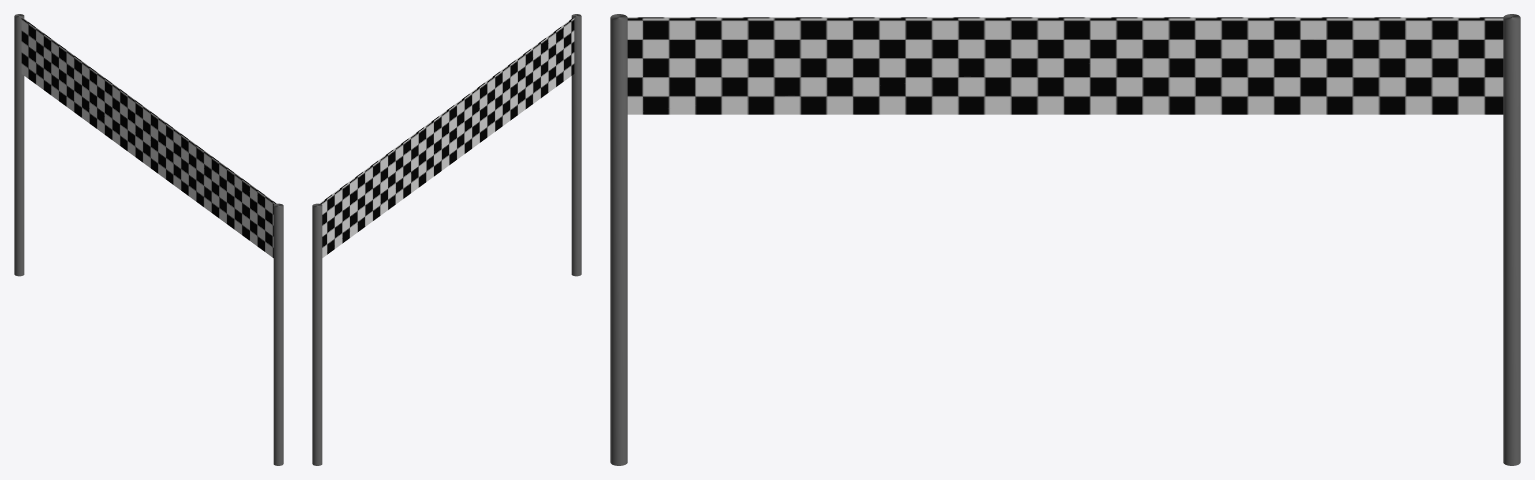
The model's file is finishflag.fbx.
3 renders of one model, left to right at view 1: azimuth 30°, elevation 25°; view 2: azimuth 150°, elevation 25°; view 3: azimuth 270°, elevation 25°, orthographic. The views are drawn at different scales.
Visible parts, largest first — view 1: Cube, Cylinder, Cylinder_001, Cube_001; view 2: Cube, Cylinder_001, Cylinder, Cube_001; view 3: Cube_001, Cylinder_001, Cylinder, Cube.
Boxes of the visible parts, x1,y1,x2,y2 form: Cube: (21,18,275,257); Cylinder: (273,203,283,465); Cylinder_001: (14,14,24,276); Cube_001: (22,18,276,203); Cube: (320,18,574,257); Cylinder_001: (312,203,322,465); Cylinder: (571,14,581,276); Cube_001: (319,18,573,203); Cube_001: (627,18,1503,114); Cylinder_001: (1503,14,1520,465); Cylinder: (610,14,627,465); Cube: (627,17,1503,18).
Size of the model in its own units: 0.3247 by 9.24 by 17.14.
2 materials, 1 textured.
